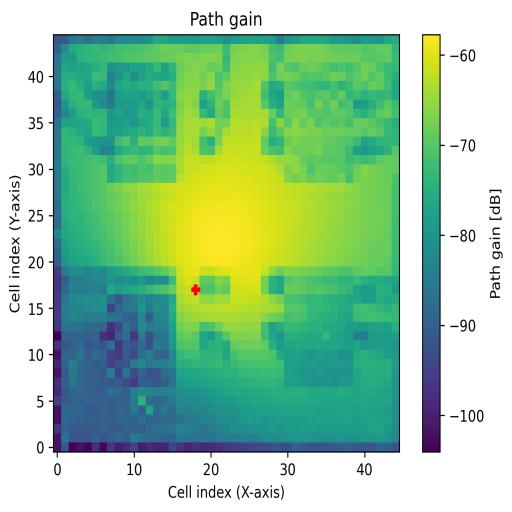Concrete: (285, 65, 362, 185)
Glass: (106, 63, 176, 182)
Metal: (285, 276, 354, 387)
Wood: (94, 268, 176, 410)
